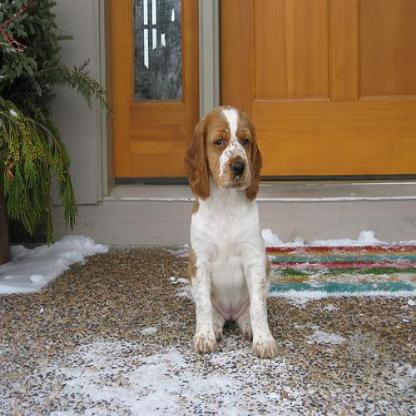Welsh_springer_spaniel: (181, 104, 280, 360)
